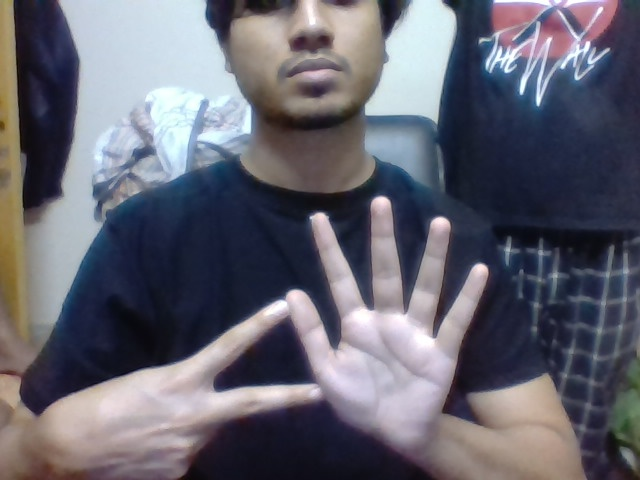N: (205, 294, 289, 425)
